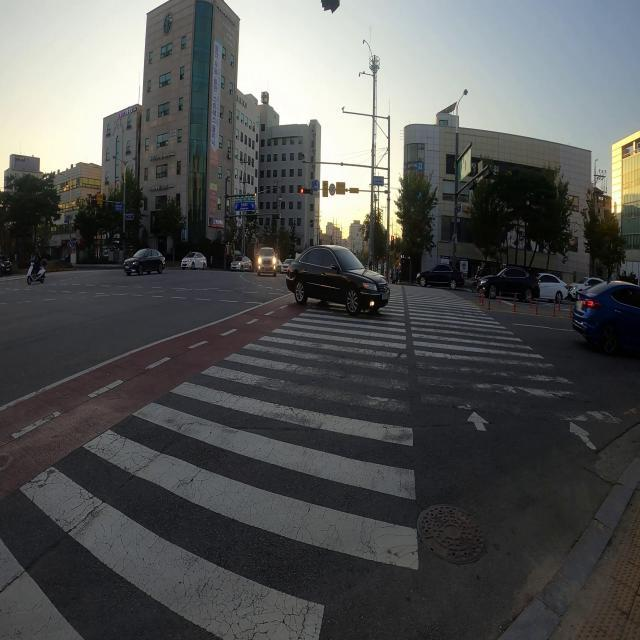crosswalk: (0, 281, 625, 638)
